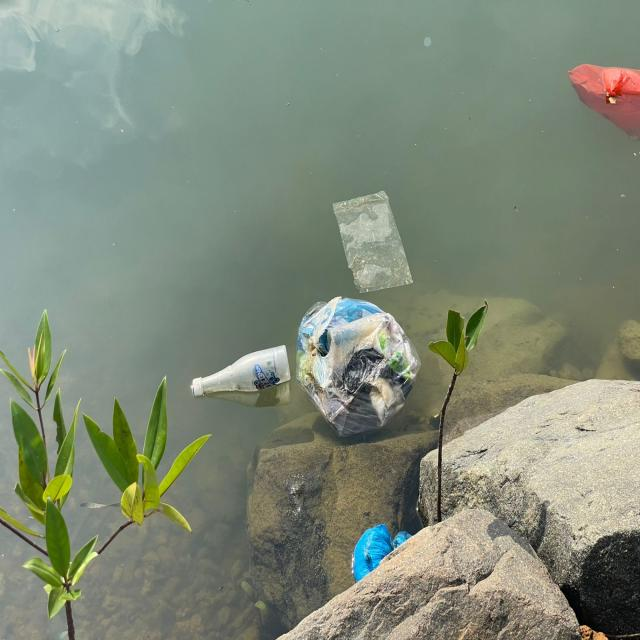Botol Plastik: (182, 336, 296, 407)
Kantong Plastik: (288, 296, 424, 450), (325, 184, 419, 298), (565, 54, 640, 136), (349, 507, 407, 582)
